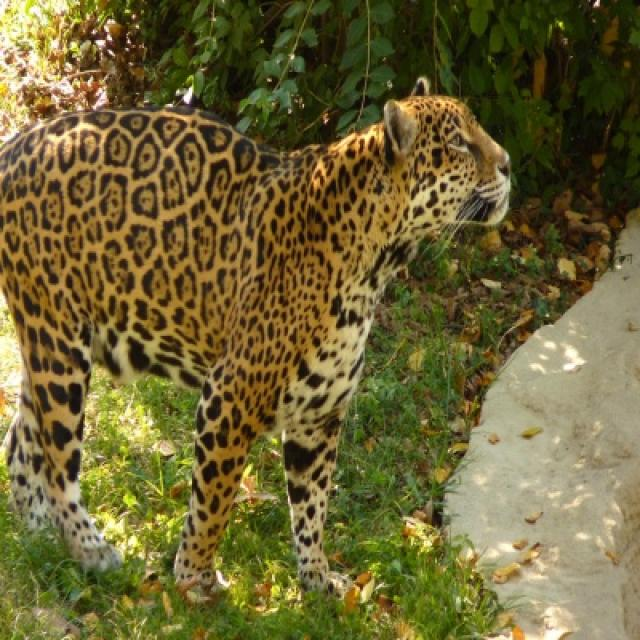Jaguar: (0, 90, 514, 610)
